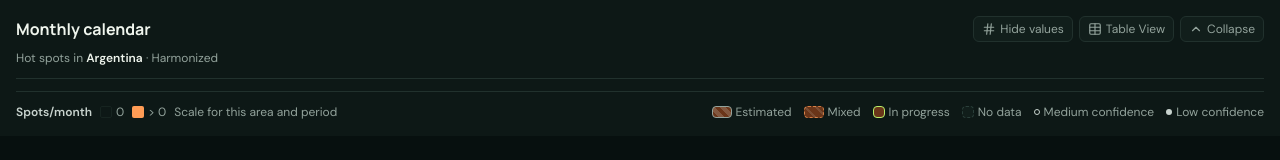
Test: CalendarHeatmapWidget collapsible behavior › collapses and expands calendar content when toggle button is clicked
Expected: the element with id "calendar-heatmap-content" is shown, left=16, top=91, right=1264, bottom=120
Click the button "Collapse". click: (1222,29)
box: left=1180, top=16, right=1264, bottom=42
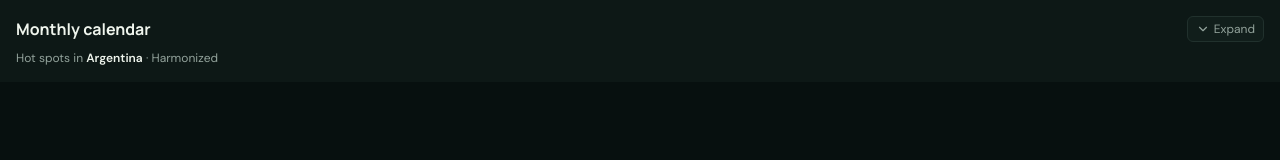
Now the button "Expand" is collapsed
Now the element with id "calendar-heatmap-content" is gone
Click the button "Expand". click: (1225,29)
box: left=1187, top=16, right=1264, bottom=42
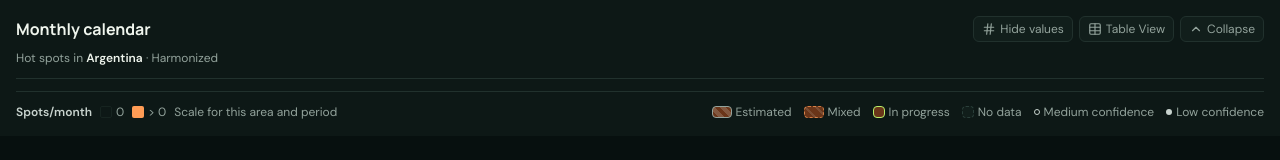
Now the button "Collapse" is expanded, box left=1180, top=16, right=1264, bottom=42
Now the element with id "calendar-heatmap-content" is shown, box left=16, top=91, right=1264, bottom=120
